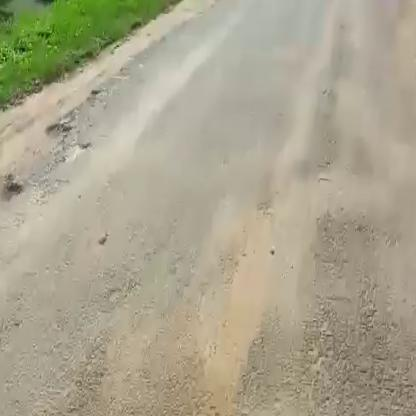pothole: (40, 119, 74, 143)
